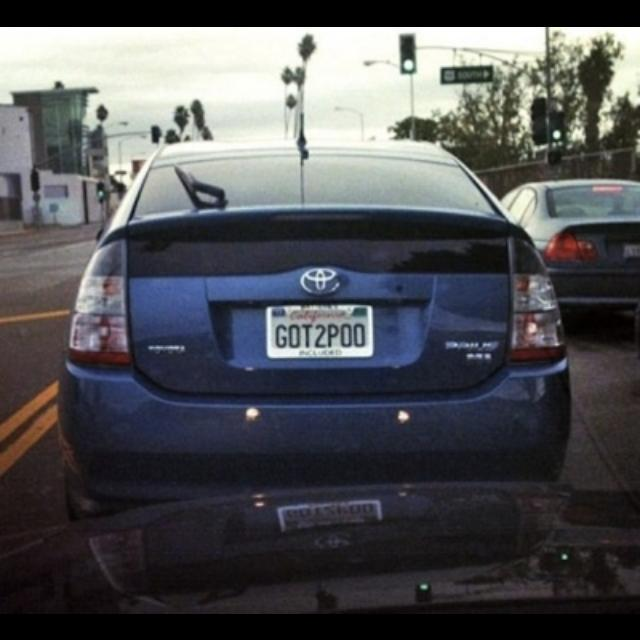carPlate: (268, 304, 372, 356)
